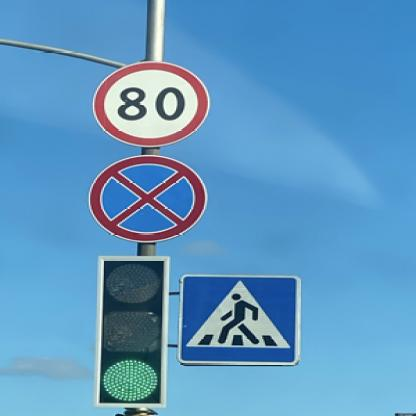Green Light: (100, 255, 167, 408)
Speed Limit 80: (96, 60, 211, 146)
